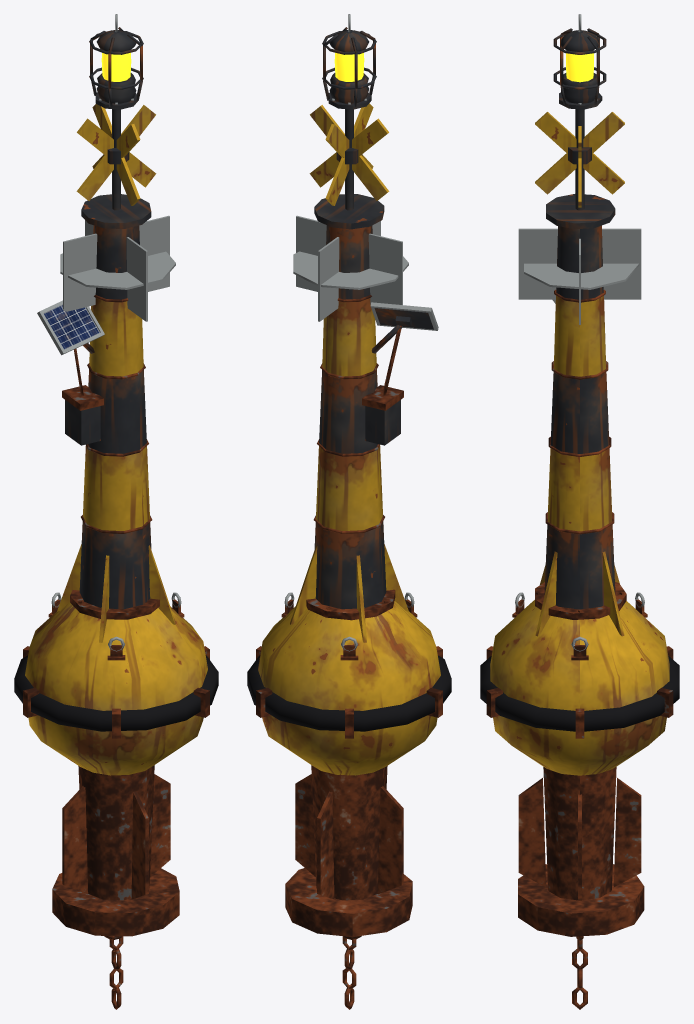
File: buoy_hazard_spar.glb
The picture shows the model from 3 angles, left to right: view 1: azimuth 30°, elevation 25°; view 2: azimuth 150°, elevation 25°; view 3: azimuth 270°, elevation 25°; orthographic projection.
Visible parts, largest first — view 1: buoy_hazard_spar; view 2: buoy_hazard_spar; view 3: buoy_hazard_spar.
Part boxes in pixels (x1,y1,x2,y2): buoy_hazard_spar: (14, 14, 218, 1009); buoy_hazard_spar: (247, 14, 451, 1009); buoy_hazard_spar: (480, 14, 679, 1009).
Bounding box in the file's own units: 1.31 × 6.81 × 1.24.
7 materials, 4 textured.
